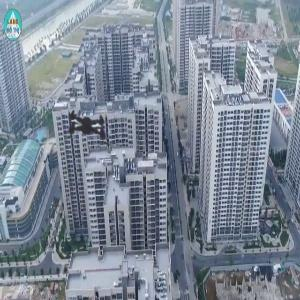drone: (37, 80, 139, 182)
